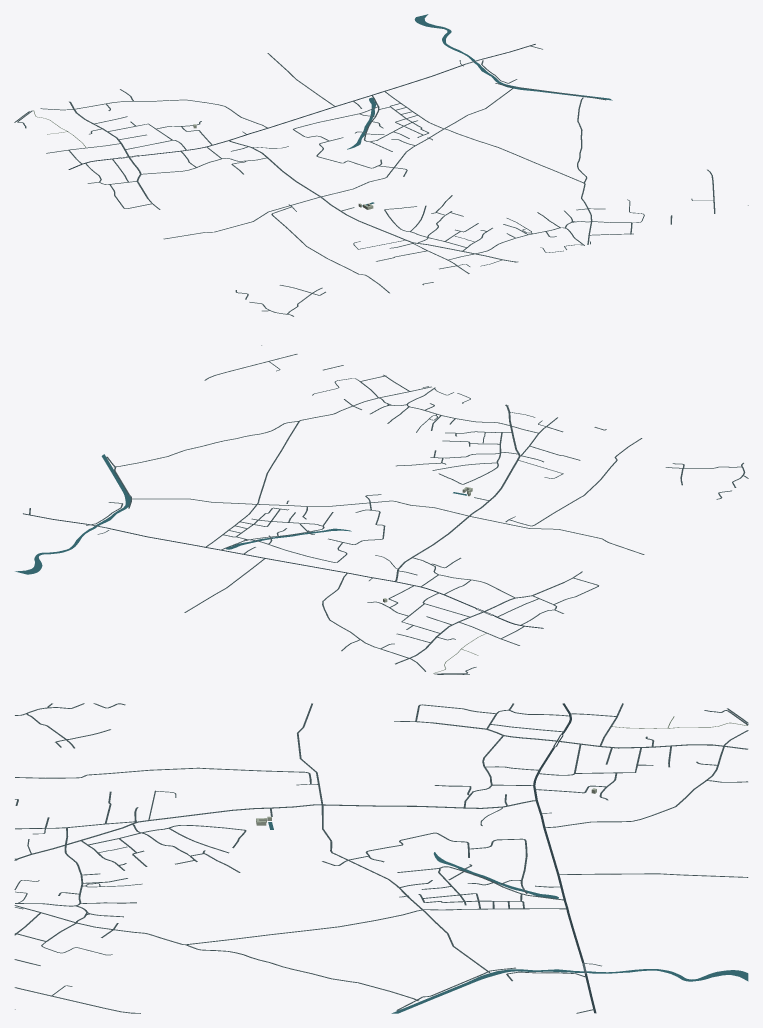
The picture shows the model from 3 angles, top to bottom: view 1: azimuth 30°, elevation 25°; view 2: azimuth 150°, elevation 25°; view 3: azimuth 270°, elevation 25°; orthographic projection. The views are drawn at different scales.
Parts seen in each view (by area): view 1: street, water, major; view 2: street, water, major; view 3: street, water, major.
Part boxes in pixels (bbox=[...]): street: bbox=[14, 45, 748, 316]; water: bbox=[347, 14, 612, 206]; major: bbox=[68, 44, 535, 169]; street: bbox=[29, 345, 748, 674]; water: bbox=[15, 454, 467, 574]; major: bbox=[23, 513, 543, 628]; street: bbox=[14, 703, 748, 1013]; water: bbox=[268, 822, 748, 1013]; major: bbox=[533, 703, 596, 1013].
Size of the model in its own units: 2005 by 10.7 by 2005.
